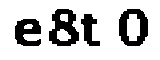0: (115, 5, 151, 52)
8: (46, 5, 82, 50)
e: (12, 18, 42, 48)
t: (80, 11, 106, 49)
